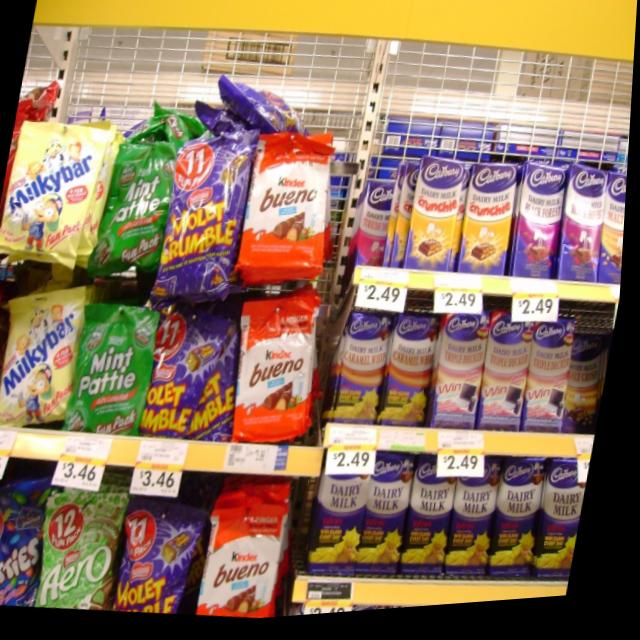q145: (535, 461, 597, 584), (496, 459, 556, 584), (317, 474, 381, 583), (449, 479, 510, 582), (361, 472, 419, 580), (405, 482, 467, 580)
